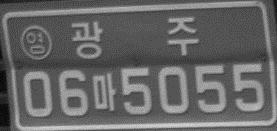0: (157, 65, 189, 114), (21, 70, 53, 117)
5: (193, 64, 227, 113), (231, 63, 264, 112), (120, 66, 152, 115)
6: (58, 69, 89, 116)
광주_D: (69, 16, 199, 59)
마: (92, 71, 117, 112)
영: (19, 24, 52, 61)
